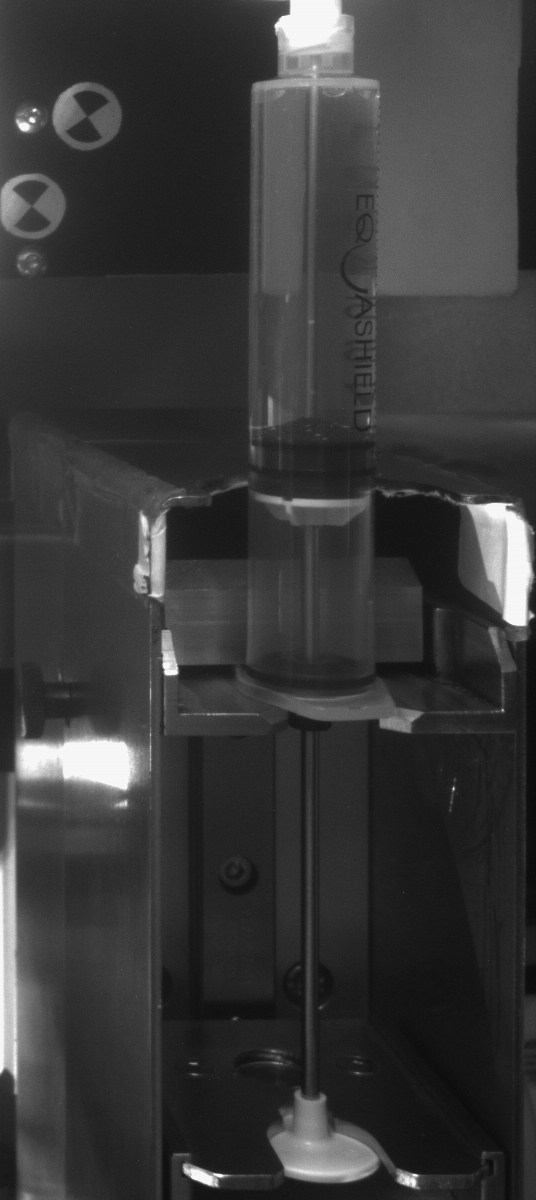piston: (247, 444, 381, 528)
